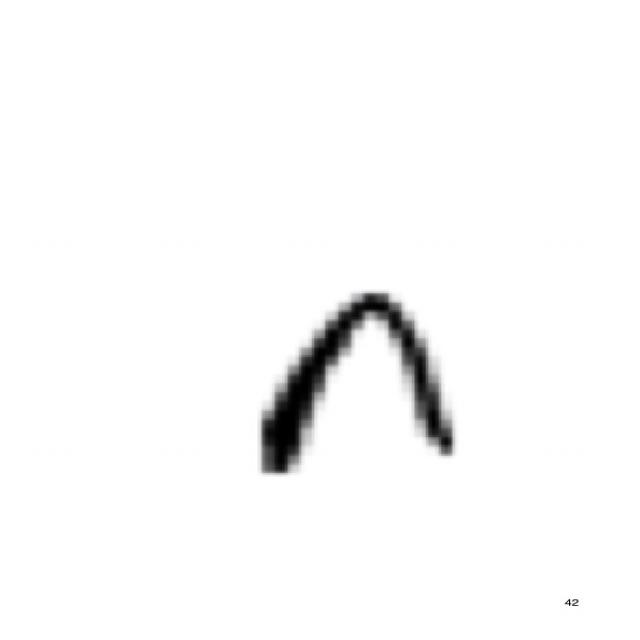8 -eight-: (234, 276, 475, 481)
